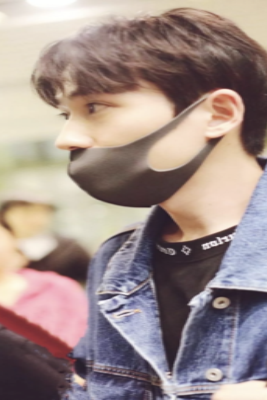mask_weared_incorrect: (54, 97, 209, 207)
